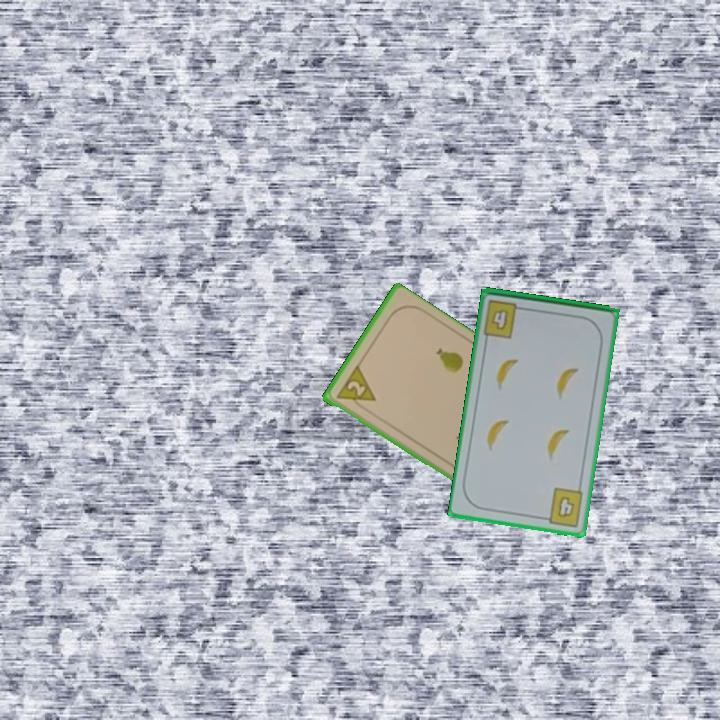2p: (332, 363, 378, 413)
4b: (538, 484, 586, 530), (480, 296, 528, 341)
